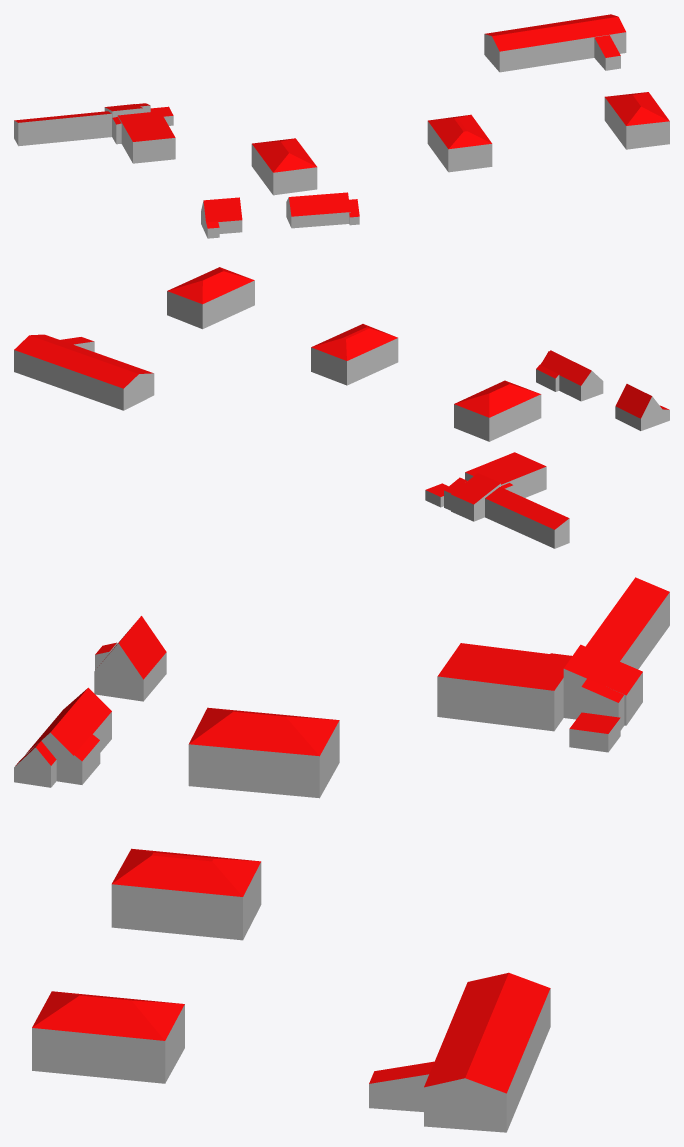
3 renders of one model, top to bottom at view 1: azimuth 30°, elevation 25°; view 2: azimuth 150°, elevation 25°; view 3: azimuth 270°, elevation 25°, orthographic. The views are drawn at different scales.
Size of the model in its own units: 178 by 9.86 by 96.75.
